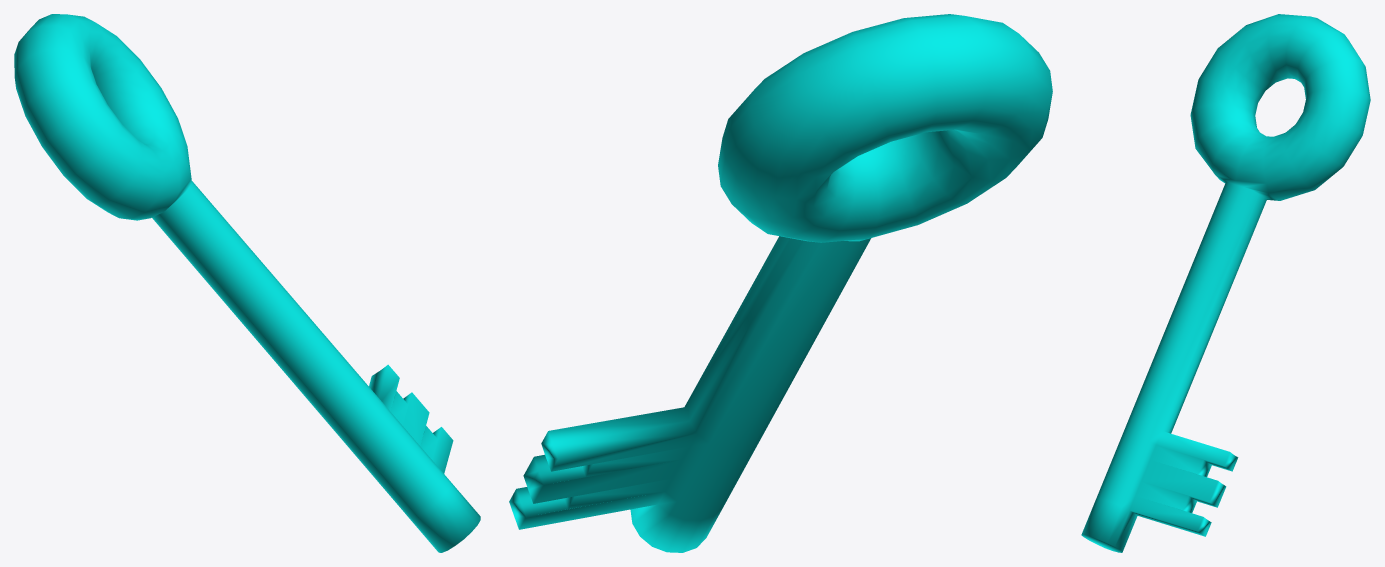
Rendered from KeyIdle.fbx.
3 renders of one model, left to right at view 1: azimuth 30°, elevation 25°; view 2: azimuth 150°, elevation 25°; view 3: azimuth 270°, elevation 25°, orthographic. The views are drawn at different scales.
Visible parts, largest first — view 1: Key; view 2: Key; view 3: Key.
Part boxes in pixels (bbox=[...]): Key: bbox=[14, 14, 480, 552]; Key: bbox=[509, 14, 1052, 552]; Key: bbox=[1081, 14, 1370, 552].
Size of the model in its own units: 4.46 by 5.56 by 3.46.
